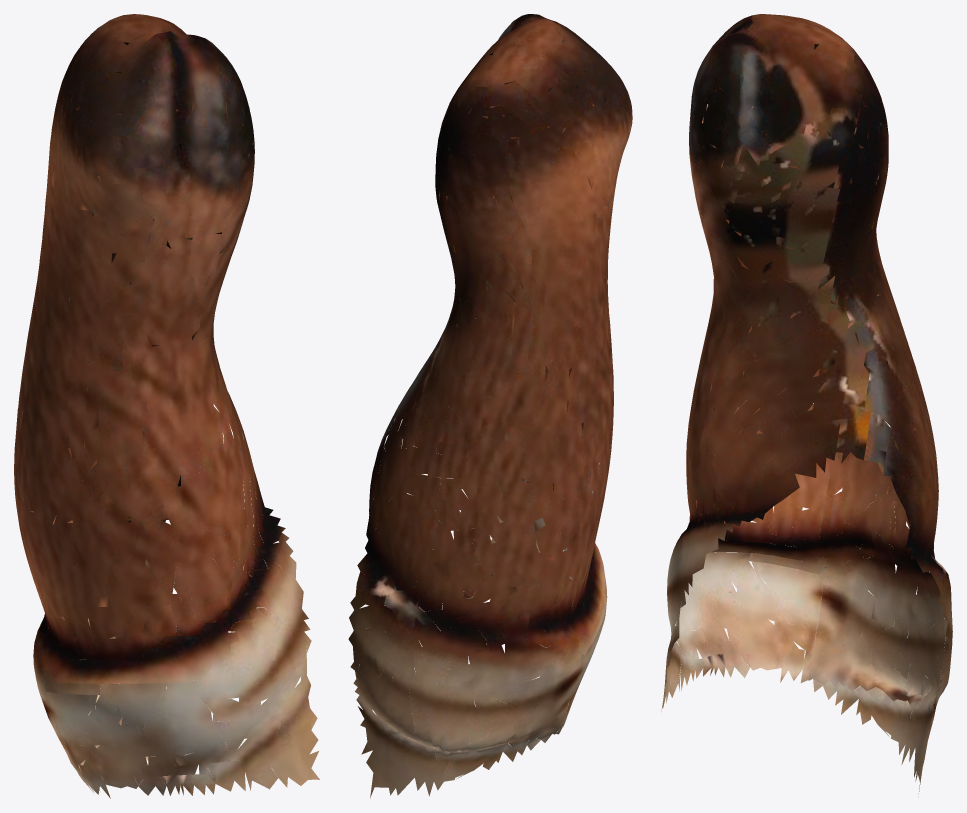
The model's file is boar.glb.
3 renders of one model, left to right at view 1: azimuth 30°, elevation 25°; view 2: azimuth 150°, elevation 25°; view 3: azimuth 270°, elevation 25°, orthographic. The views are drawn at different scales.
Parts seen in each view (by area): view 1: boar-card-grip; view 2: boar-card-grip; view 3: boar-card-grip.
Boxes of the visible parts, x1=… form: boar-card-grip: x1=14, y1=14, x2=319, y2=798; boar-card-grip: x1=348, y1=14, x2=632, y2=798; boar-card-grip: x1=661, y1=14, x2=952, y2=796.
Bounding box in the file's own units: 1.34 × 4.95 × 1.78.
Materials: 1 (1 with a texture image).
